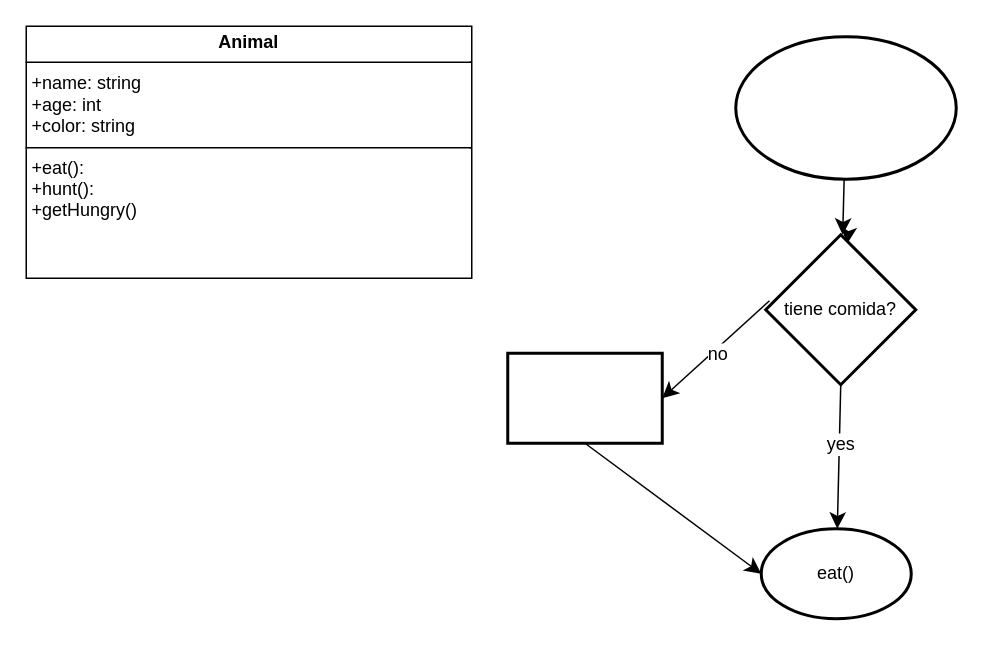
This 984x647 diagram has some shape labels left out. Here are the shapes that lost their labels. From the top down, the centre of each, then its label:
the point at 845,107: getHungry()
the point at 584,397: hunt()
